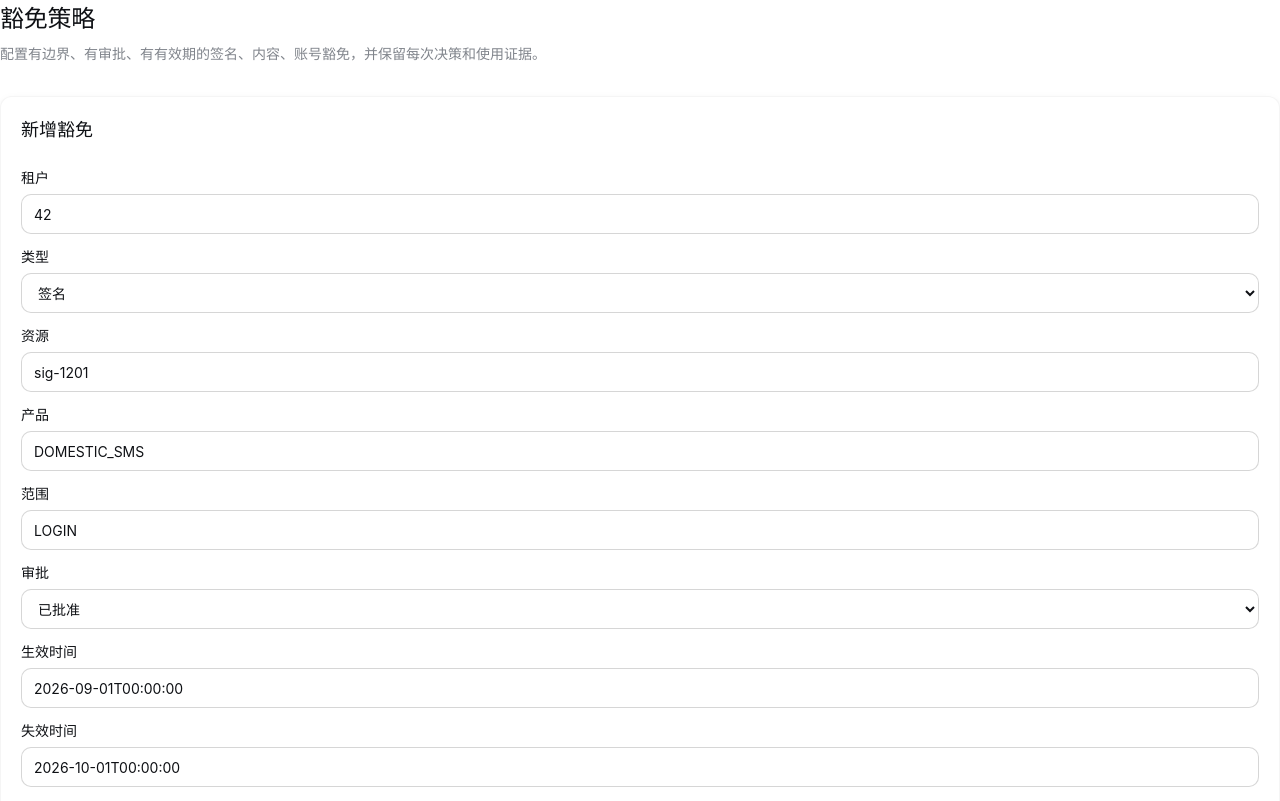
Phase 14 auditable exemption policy UI › configures bounded exemptions and records the request payload
Select "内容" in the dropdown with test id "admin-auditable-exemption-exemption-policy-type". click: coordinates (640, 293)
box: [21,273,1259,313]
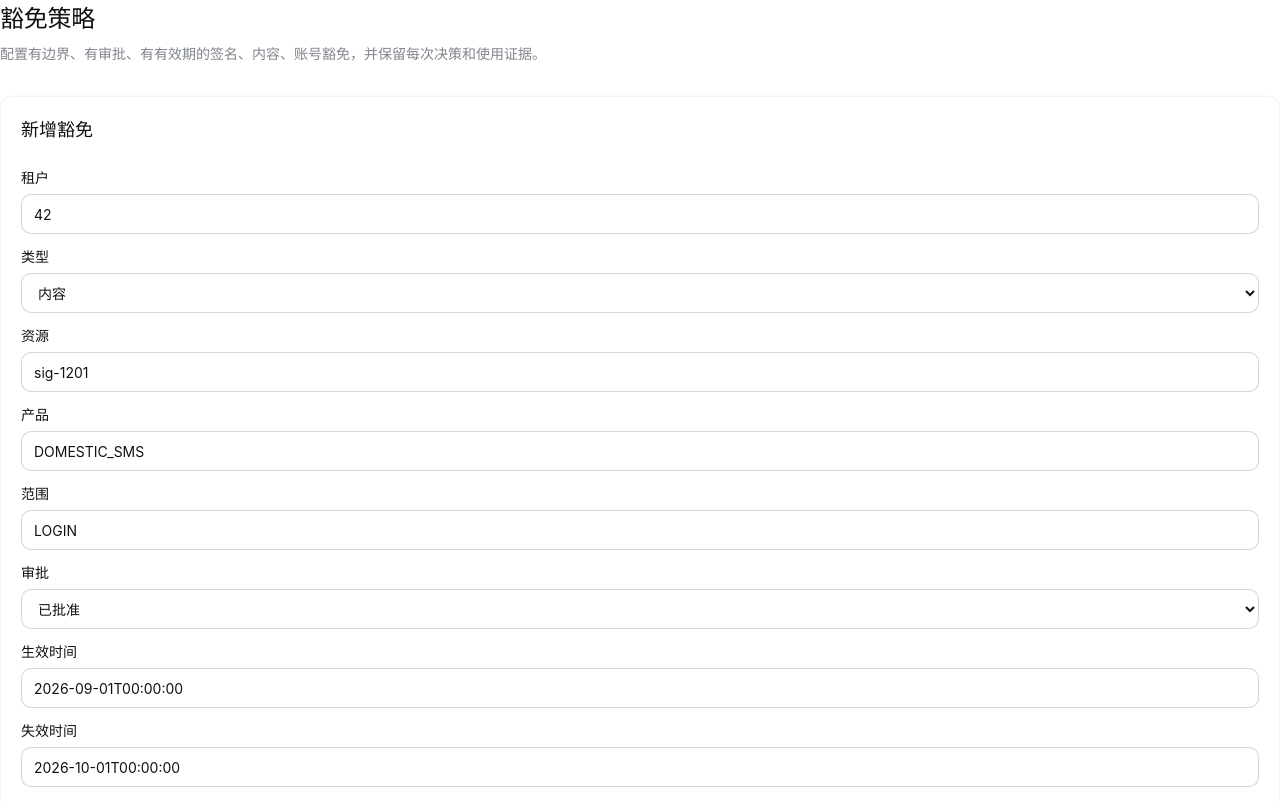
Replace the text in the field with test id "admin-auditable-exemption-exemption-policy-resource" with "tpl-1". click: coordinates (640, 372)
box: [21,352,1259,392]
(page scrolled)
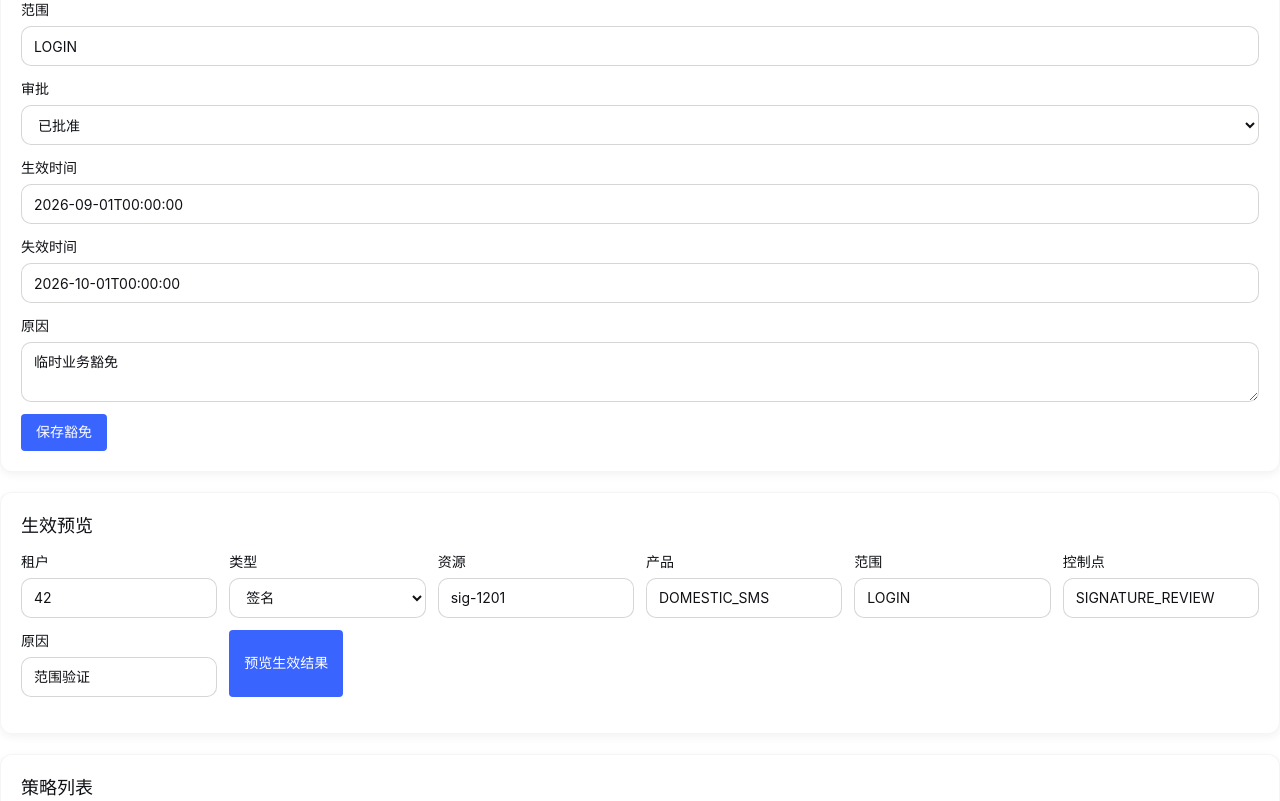
Click the button with test id "admin-auditable-exemption-exemption-policy-save". click: coordinates (64, 432)
box: [21,414,107,451]
(page scrolled)
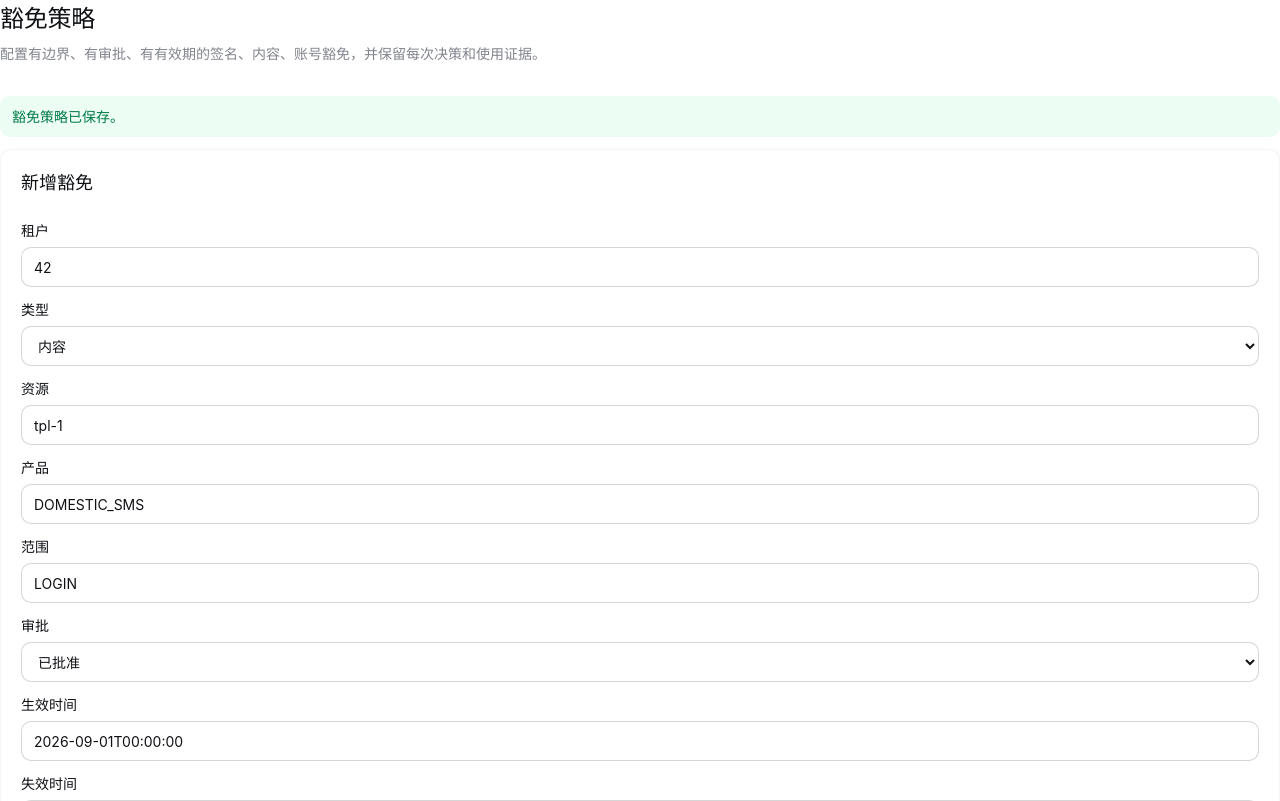
Result: the text "豁免策略已保存。" is shown at [0,96,1279,137]
